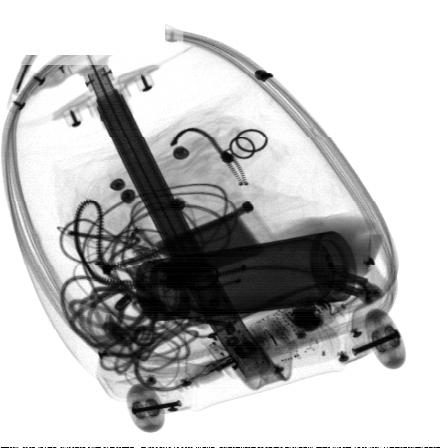Powerbank: (131, 200, 279, 292)
